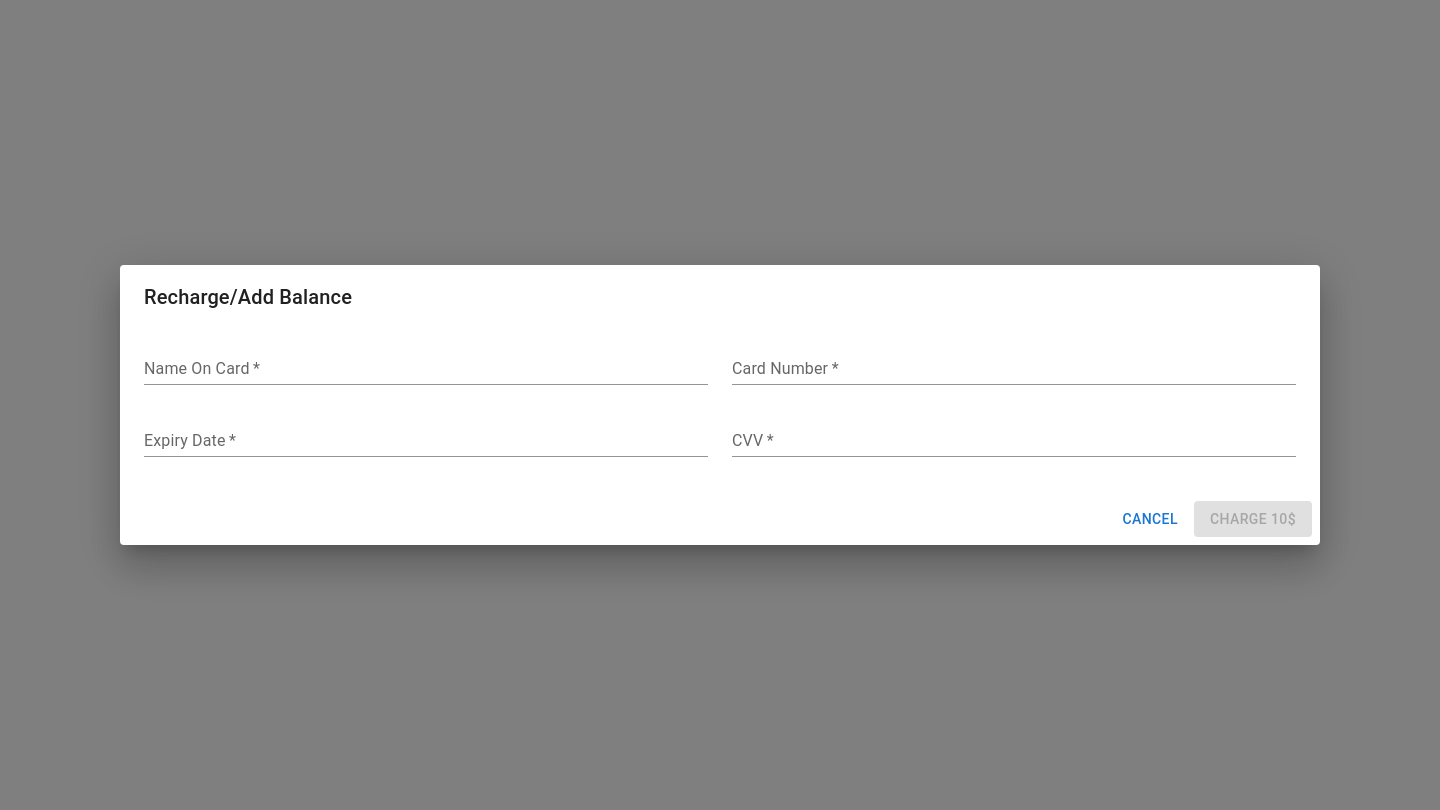
Test: Recharge Dialog › validate on Card number and show error message
Type "2312" into the field labelled "Card Number *" at (1014, 369), box [732,353,1296,385]
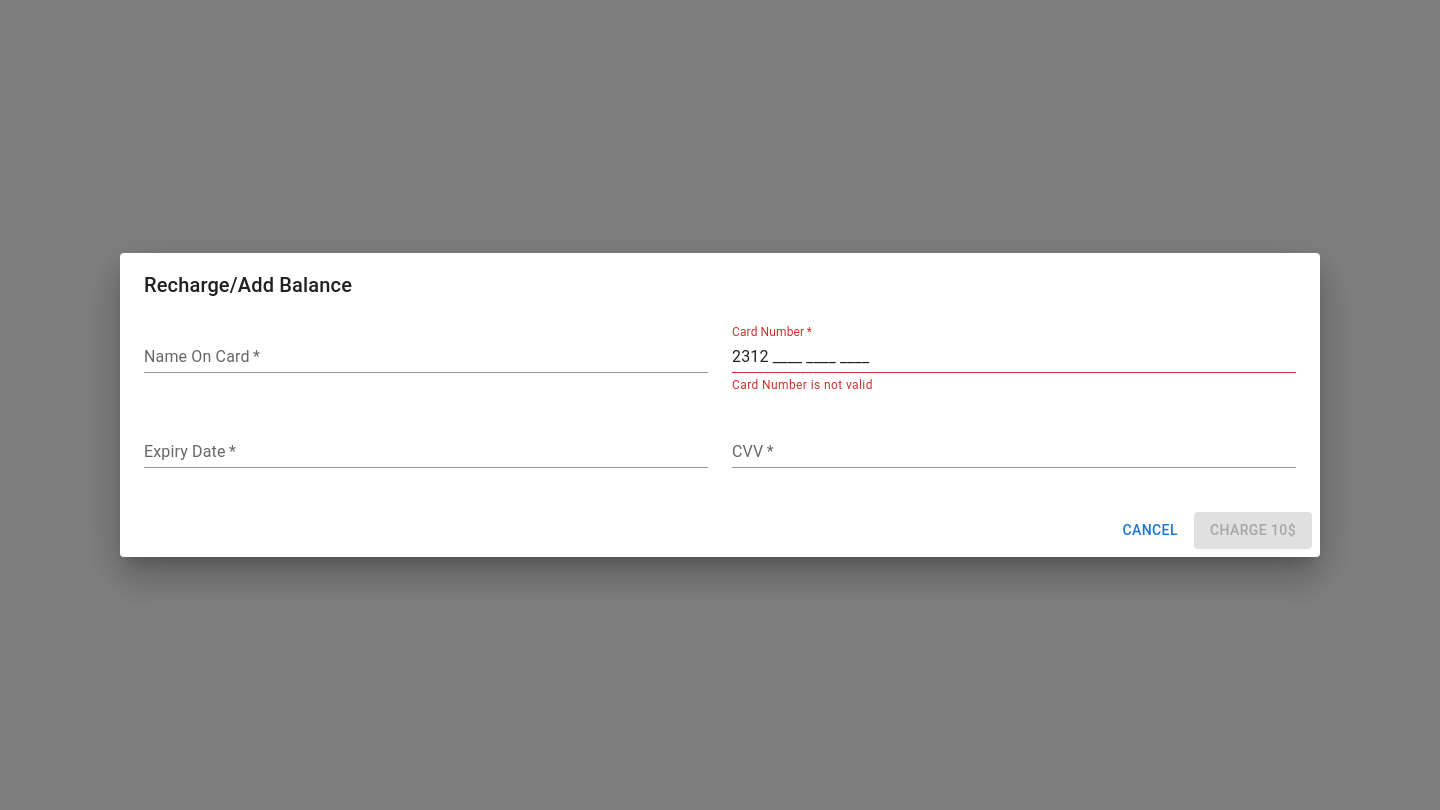
Result: the text "Card Number is not valid" is shown at [732,378,873,392]
